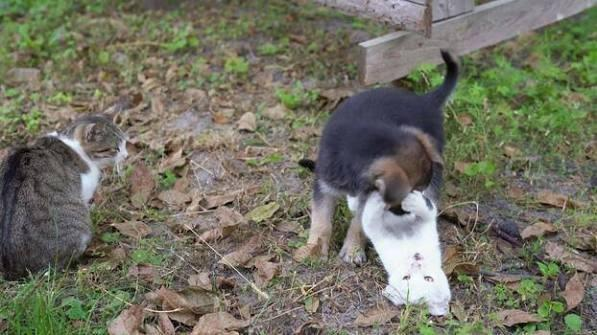non-dog: (0, 96, 134, 282), (357, 192, 454, 321)
puppy-dog: (305, 47, 461, 266)
